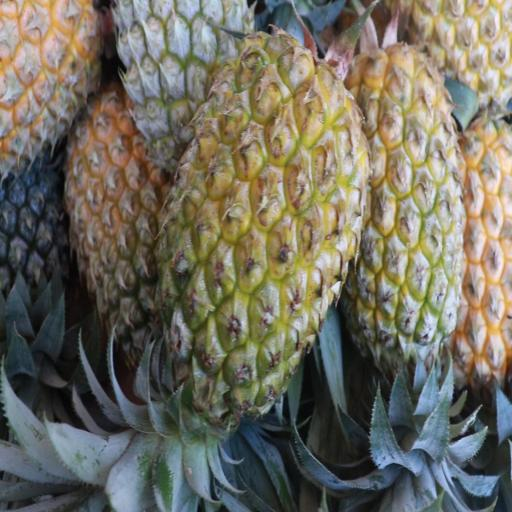------------------------------: (65, 98, 160, 338)
Pineapple - v8 v1: (160, 50, 364, 406), (350, 62, 460, 367)
